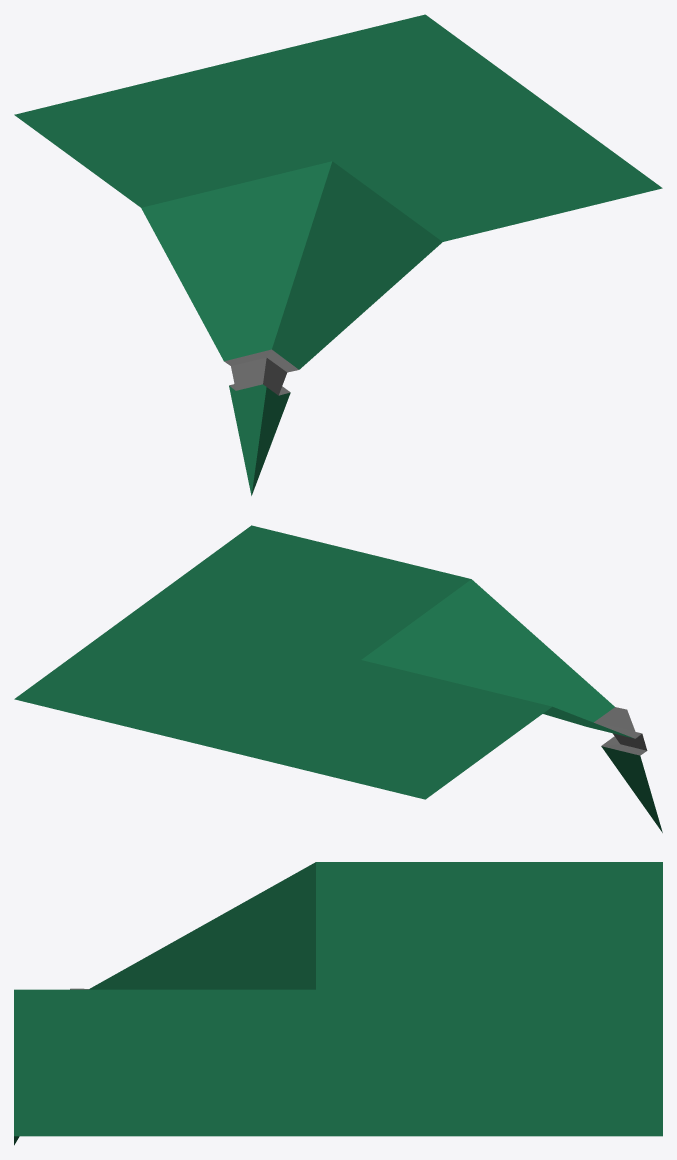
File: innercorner.fbx
3 views of the same model, one above another, from view 1: azimuth 30°, elevation 25°; view 2: azimuth 150°, elevation 25°; view 3: azimuth 270°, elevation 25° (orthographic). The views are drawn at different scales.
Visible parts, largest first — view 1: InnerCorner; view 2: InnerCorner; view 3: InnerCorner.
Boxes of the visible parts, <box> form: InnerCorner: <box>14,14,662,495</box>; InnerCorner: <box>14,525,662,832</box>; InnerCorner: <box>14,862,662,1145</box>.
Bounding box in the file's own units: 100 × 48.25 × 100.
